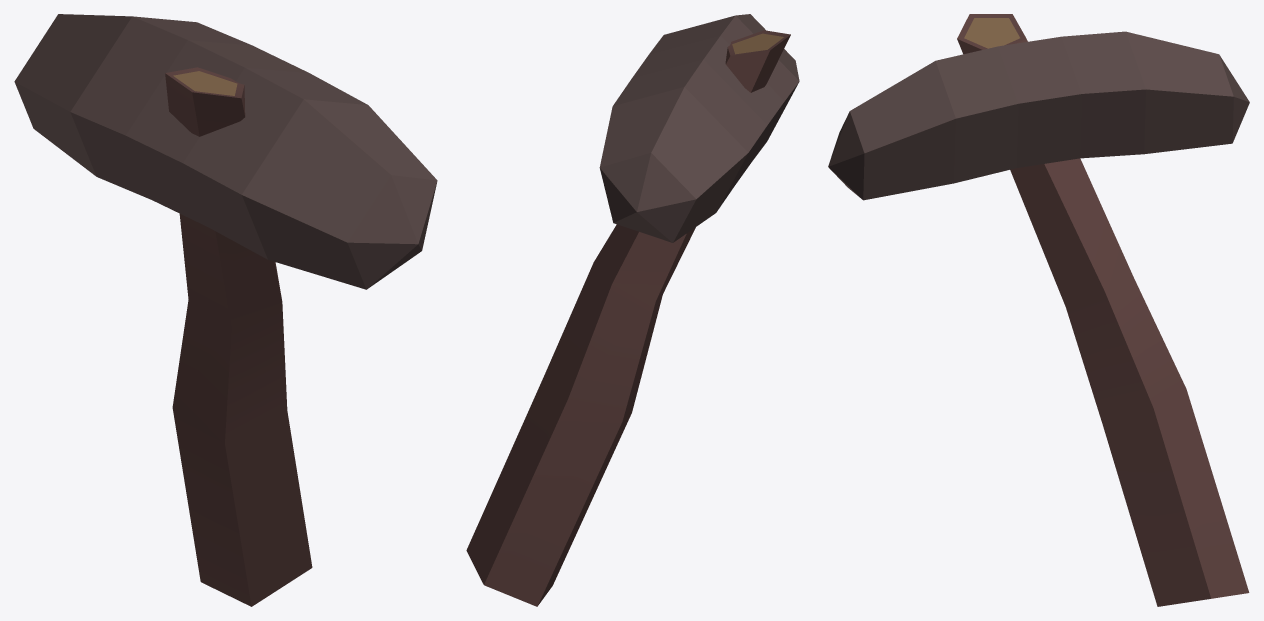
Rendered from hotdog.fbx.
3 views of the same model, side by side, from view 1: azimuth 30°, elevation 25°; view 2: azimuth 150°, elevation 25°; view 3: azimuth 270°, elevation 25° (orthographic). The views are drawn at different scales.
Parts seen in each view (by area): view 1: pCylinder2, weed3; view 2: weed3, pCylinder2; view 3: pCylinder2, weed3.
Boxes of the visible parts, box(x1,y1,x2,y2) form: pCylinder2: box(14, 14, 437, 289); weed3: box(165, 67, 312, 606); weed3: box(466, 30, 790, 606); pCylinder2: box(599, 14, 799, 242); pCylinder2: box(828, 31, 1249, 200); weed3: box(957, 14, 1249, 606).
Bounding box in the file's own units: 0.2348 × 0.498 × 0.365.
